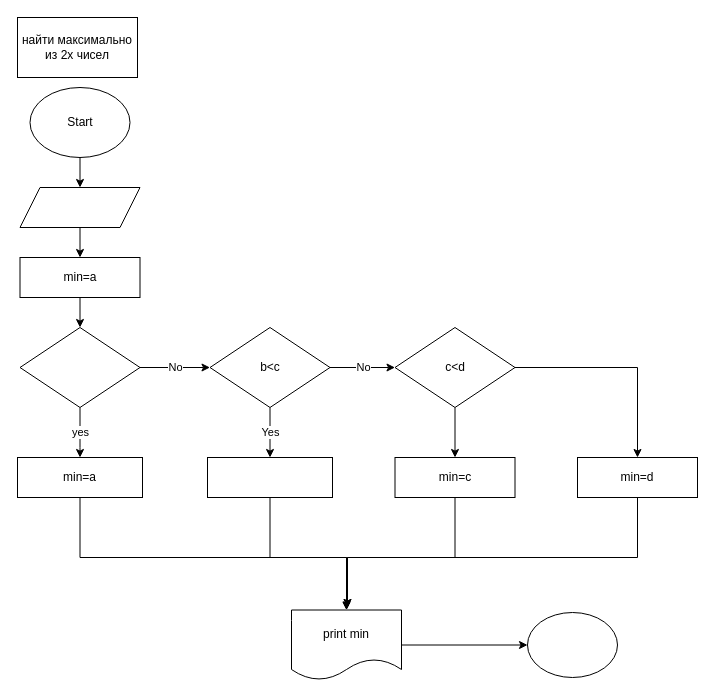
Some shapes in this 715 by 698 pixel diagram are drawn without their labels. The box of each missing label's shape, as (x1, y1, x2, y2) in pixels:
a; b; c; d: (19, 186, 140, 228)
a<b: (19, 326, 140, 408)
Finish: (526, 612, 618, 678)
min=b: (206, 456, 332, 498)
